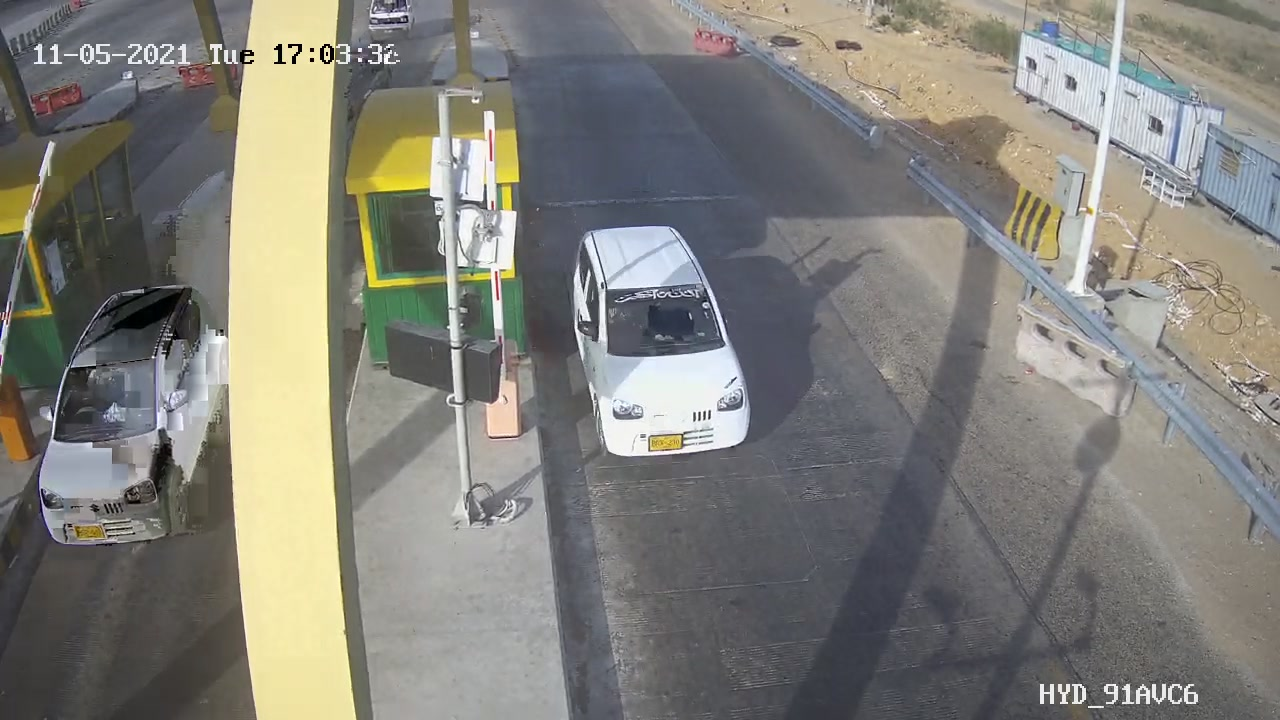F1: (553, 212, 768, 475)
